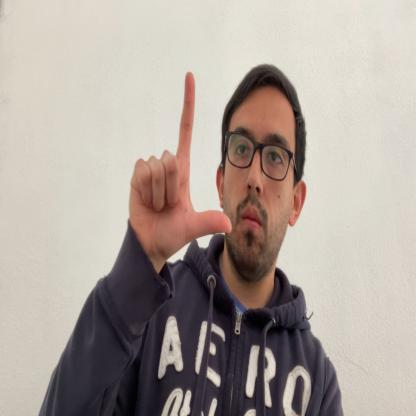L: (129, 71, 233, 253)
